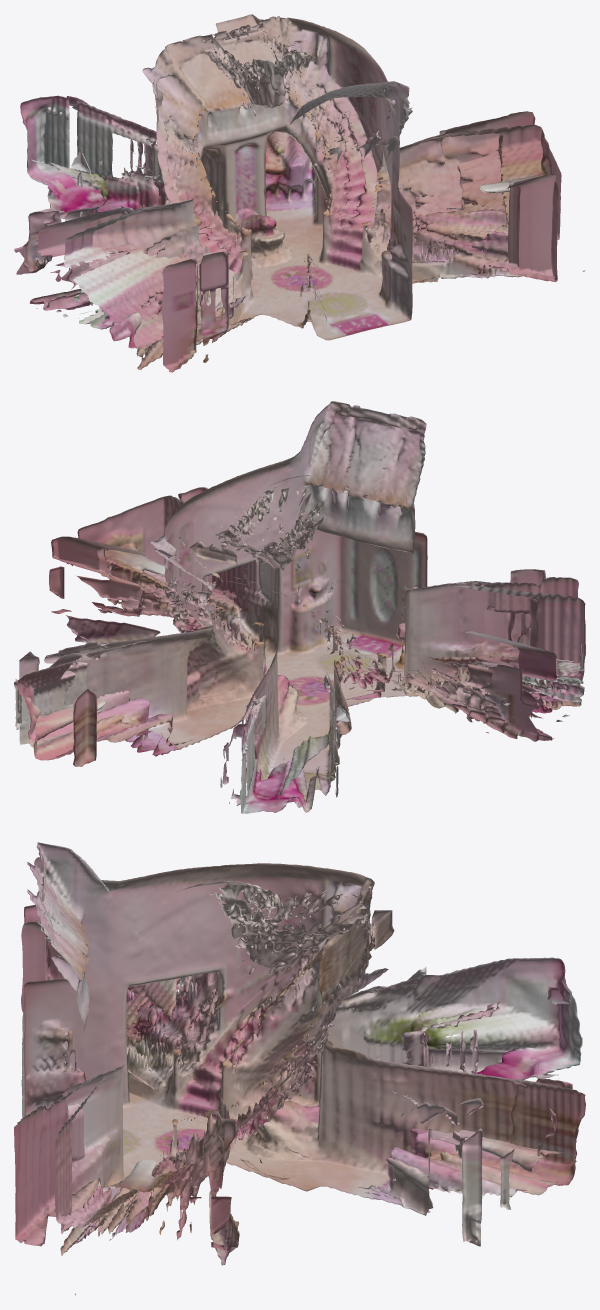
Rendered from Pink Dollhouse Grand Foyer_collider.glb.
The picture shows the model from 3 angles, top to bottom: view 1: azimuth 30°, elevation 25°; view 2: azimuth 150°, elevation 25°; view 3: azimuth 270°, elevation 25°; orthographic projection. The views are drawn at different scales.
Parts seen in each view (by area): view 1: world; view 2: world; view 3: world.
Boxes of the visible parts, x1,y1,x2,y2 form: world: (14, 14, 585, 372); world: (14, 401, 585, 813); world: (14, 842, 585, 1295).
Size of the model in its own units: 12.38 by 5.79 by 10.25.
